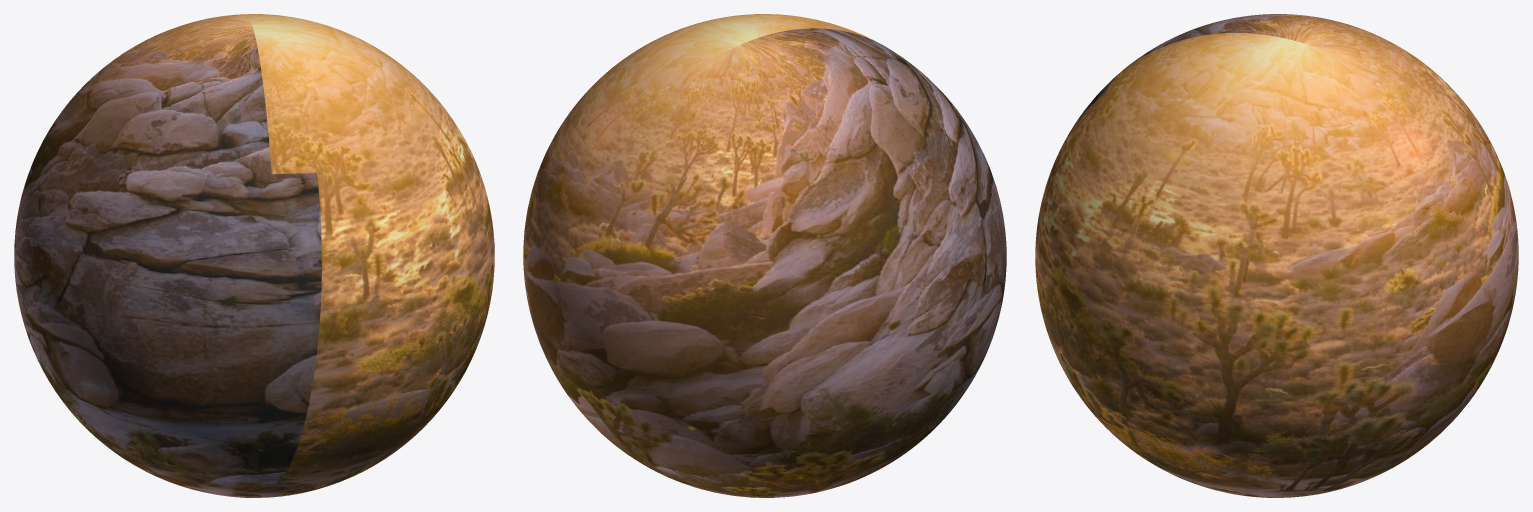
File: planet1.obj
3 renders of one model, left to right at view 1: azimuth 30°, elevation 25°; view 2: azimuth 150°, elevation 25°; view 3: azimuth 270°, elevation 25°, orthographic.
Visible parts, largest first — view 1: Earth_Sphere; view 2: Earth_Sphere; view 3: Earth_Sphere.
Boxes of the visible parts, x1,y1,x2,y2 form: Earth_Sphere: (14, 14, 494, 497); Earth_Sphere: (523, 14, 1006, 497); Earth_Sphere: (1035, 14, 1518, 497).
Size of the model in its own units: 3.88 by 3.9 by 3.89.
